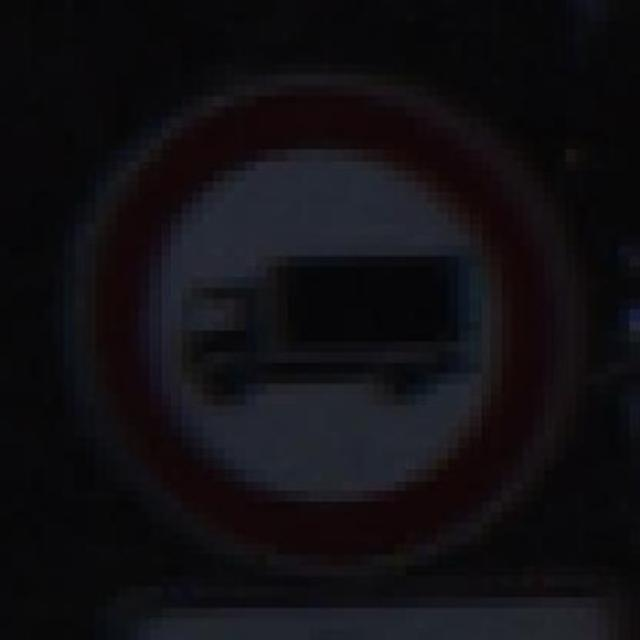Truck traffic is prohibited: (64, 42, 608, 598)
